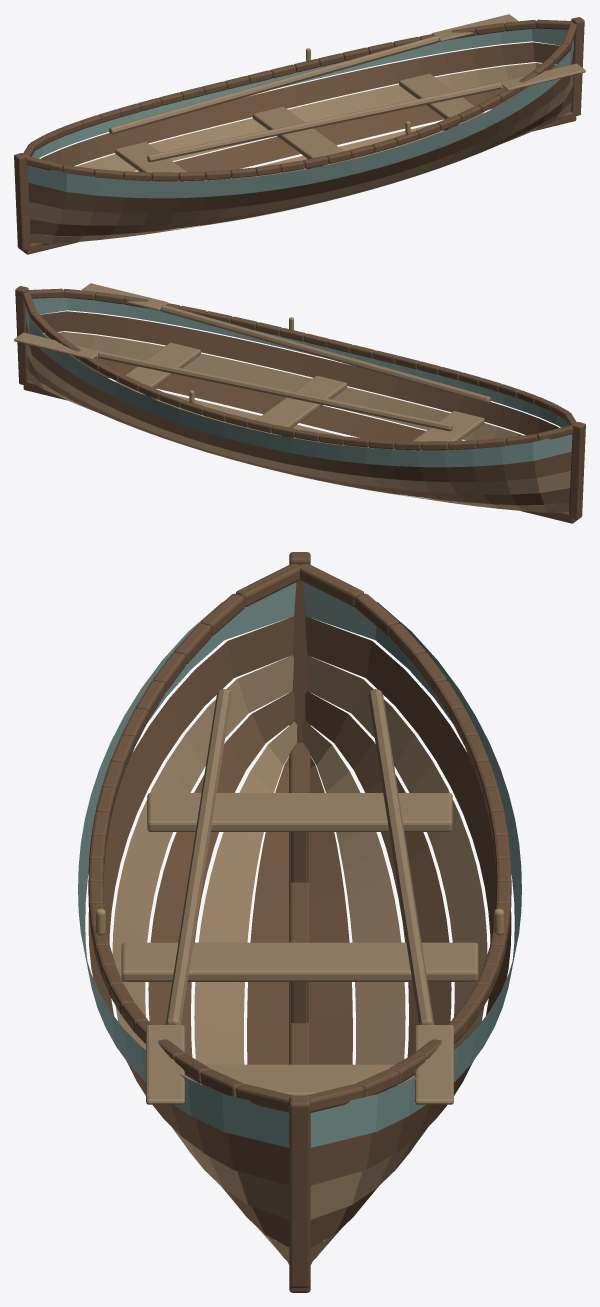
File: RowingBoat.fbx
3 renders of one model, top to bottom at view 1: azimuth 30°, elevation 25°; view 2: azimuth 150°, elevation 25°; view 3: azimuth 270°, elevation 25°, orthographic. The views are drawn at different scales.
Visible parts, largest first — view 1: RowingBoat; view 2: RowingBoat; view 3: RowingBoat.
Part boxes in pixels (<box>): RowingBoat: <box>14,14,585,254</box>; RowingBoat: <box>14,283,585,523</box>; RowingBoat: <box>78,552,521,1292</box>.
Size of the model in its own units: 4.33 by 0.7913 by 1.47.
